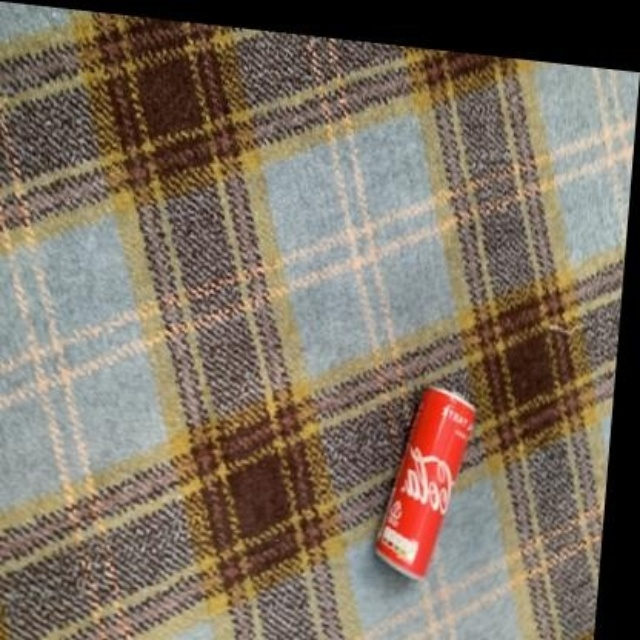trash: (375, 388, 474, 578)
